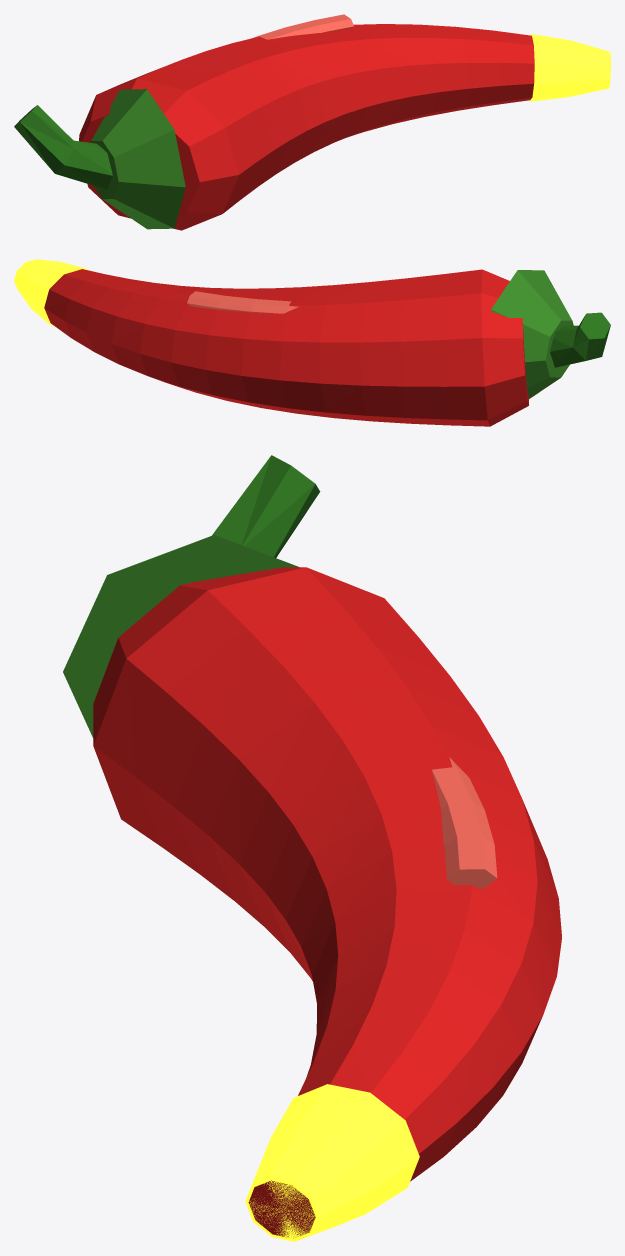
The model's file is Chili.fbx.
3 views of the same model, one above another, from view 1: azimuth 30°, elevation 25°; view 2: azimuth 150°, elevation 25°; view 3: azimuth 270°, elevation 25° (orthographic). The views are drawn at different scales.
Parts seen in each view (by area): view 1: Top_E01E1E, Top_3C8C28, Top_FF8A1A_Neon, Top_2E7A1E, Top_FF6A5A; view 2: Top_E01E1E, Top_3C8C28, Top_2E7A1E, Top_FF8A1A_Neon, Top_FF6A5A; view 3: Top_E01E1E, Top_FF8A1A_Neon, Top_3C8C28, Top_2E7A1E, Top_FF6A5A.
Part boxes in pixels (bbox=[...]): Top_E01E1E: bbox=[79, 24, 534, 230]; Top_3C8C28: bbox=[90, 89, 185, 229]; Top_FF8A1A_Neon: bbox=[530, 34, 610, 101]; Top_2E7A1E: bbox=[14, 105, 112, 189]; Top_FF6A5A: bbox=[253, 14, 353, 39]; Top_E01E1E: bbox=[44, 269, 529, 426]; Top_3C8C28: bbox=[490, 270, 573, 398]; Top_2E7A1E: bbox=[550, 312, 610, 367]; Top_FF8A1A_Neon: bbox=[14, 259, 90, 326]; Top_FF6A5A: bbox=[187, 291, 298, 313]; Top_E01E1E: bbox=[93, 567, 561, 1237]; Top_FF8A1A_Neon: bbox=[245, 1084, 419, 1241]; Top_3C8C28: bbox=[63, 535, 299, 737]; Top_2E7A1E: bbox=[212, 455, 320, 557]; Top_FF6A5A: bbox=[432, 757, 497, 888].
Size of the model in its own units: 2 by 0.4662 by 0.7375.
